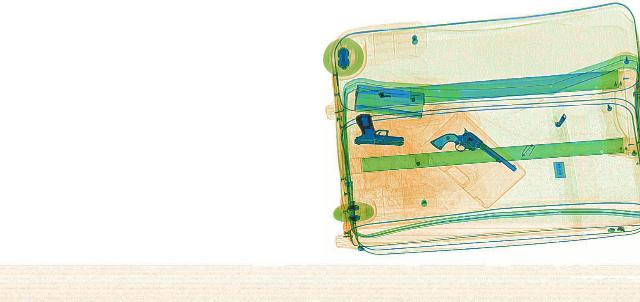Gun: (424, 126, 526, 176), (352, 111, 404, 145)
